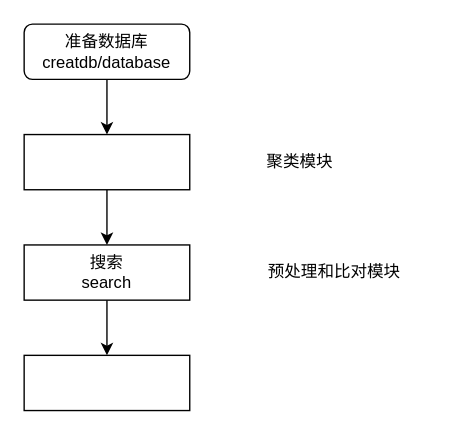
This 449x446 diagram has some shape labels left out. The box of each missing label's shape, as (x1, y1, x2, y2) in pixels:
去除冗余 cluster/linclust: (23, 133, 190, 190)
结果输出 convertalis/ taxonomy: (23, 354, 190, 411)
